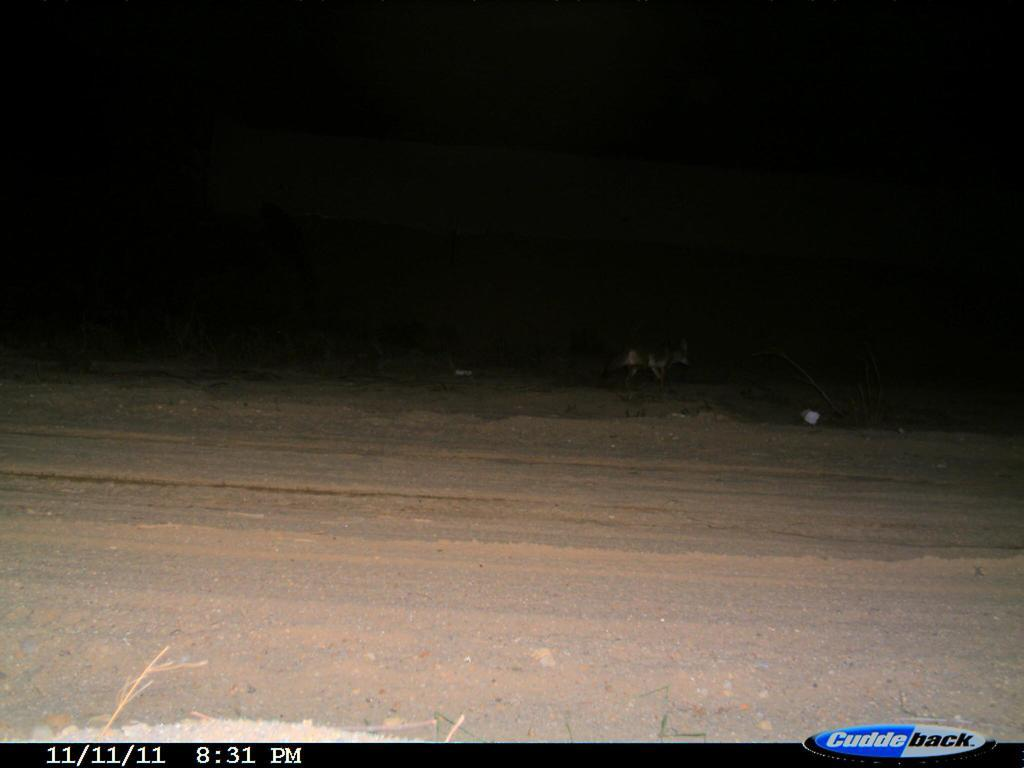coyote: (617, 343, 690, 396)
